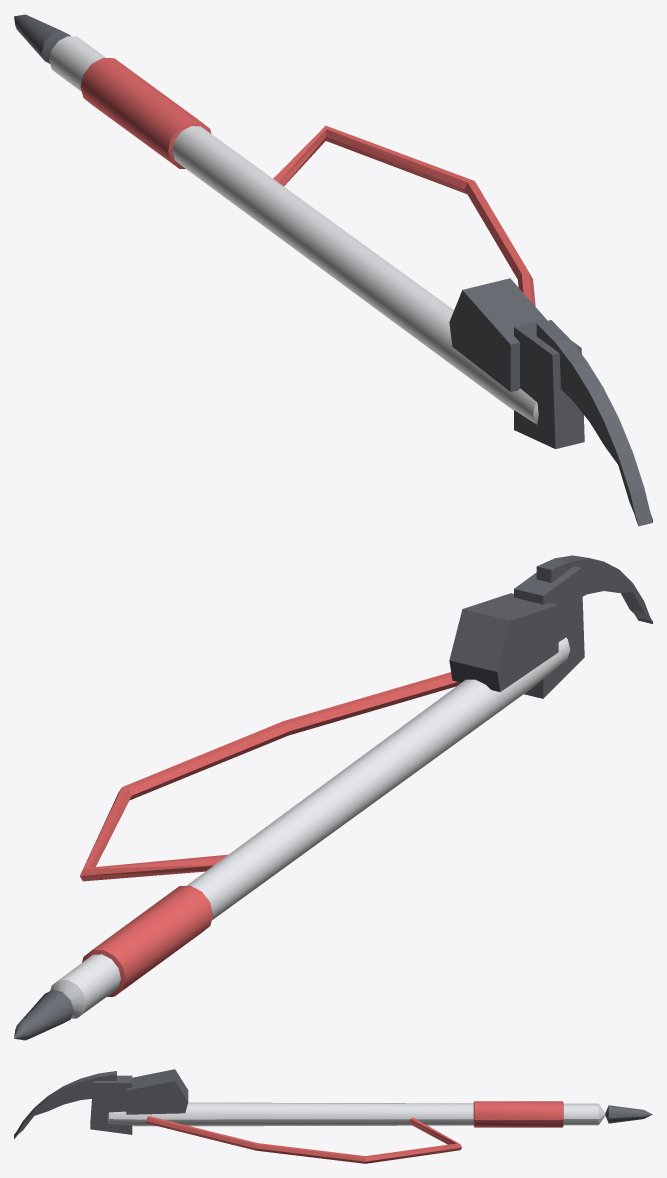
The model's file is mountaineering-and-summit-expedition-ice-axe-fcd4a9da__18812.glb.
3 renders of one model, top to bottom at view 1: azimuth 30°, elevation 25°; view 2: azimuth 150°, elevation 25°; view 3: azimuth 270°, elevation 25°, orthographic. The views are drawn at different scales.
Visible parts, largest first — view 1: ice-axe; view 2: ice-axe; view 3: ice-axe.
Boxes of the visible parts, left/top/right/bottom form: ice-axe: left=14, top=14, right=652, bottom=526; ice-axe: left=14, top=555, right=652, bottom=1040; ice-axe: left=14, top=1069, right=652, bottom=1163.
Bounding box in the file's own units: 0.153 × 0.0924 × 0.8224.
